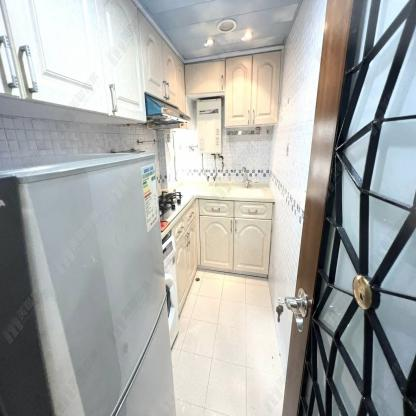Cupboard: (1, 1, 191, 121), (170, 199, 274, 313), (186, 47, 279, 125)
Exhaust Hood: (145, 92, 190, 128), (145, 95, 188, 128)
Faucet: (241, 166, 251, 191)
Fridge: (0, 153, 177, 416), (3, 151, 173, 416)
Sink: (229, 186, 263, 197)
Stove: (159, 188, 189, 222), (158, 189, 188, 219)
